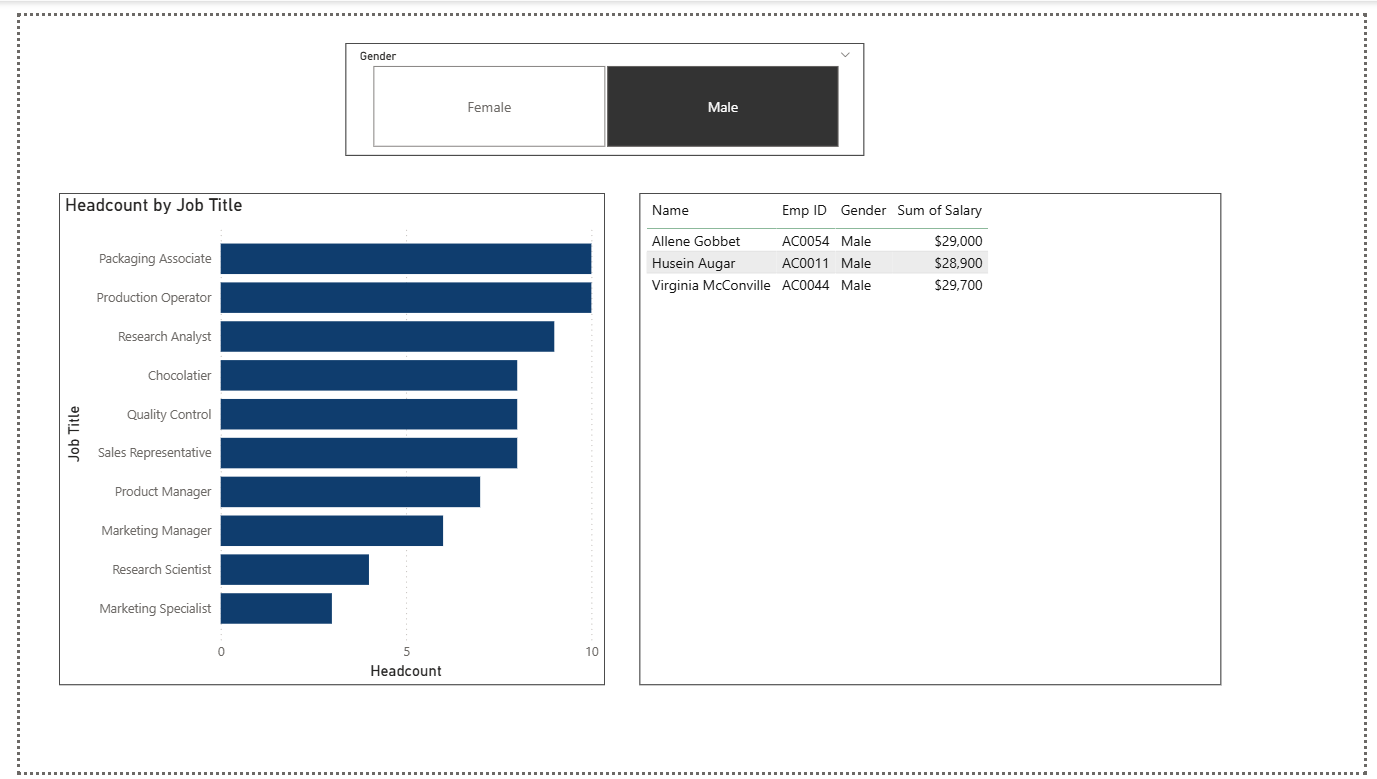

The dashboard page shown, as its layout file describes it:
{"tool":"powerbi","page":{"name":"Page 3","canvas":[1280,720],"ordinal":2},"visuals":[{"type":"barChart","fields":{"Category":["staff.Job Title"],"Y":["staff.Headcount"]},"box":[37.1,168.6,520,468.6],"z":0},{"type":"tableEx","fields":{"Values":["staff.Name","staff.Emp ID","staff.Gender","Sum(staff.Salary)"]},"box":[590,168.6,554.3,468.6],"z":1000},{"type":"slicer","fields":{"Values":["staff.Gender"]},"box":[310,25.7,494.3,107.1],"z":1001}]}

Visuals, with their boxes in screenshot pixels (x1, y1, x2, y2), scaled from the page's 1280x720 canvas onto the 1377x779 screenshot:
barChart - staff.Job Title x staff.Headcount: {"x1": 40, "y1": 182, "x2": 599, "y2": 689}
tableEx - staff.Name x staff.Emp ID: {"x1": 635, "y1": 182, "x2": 1231, "y2": 689}
slicer - staff.Gender: {"x1": 333, "y1": 28, "x2": 865, "y2": 144}
